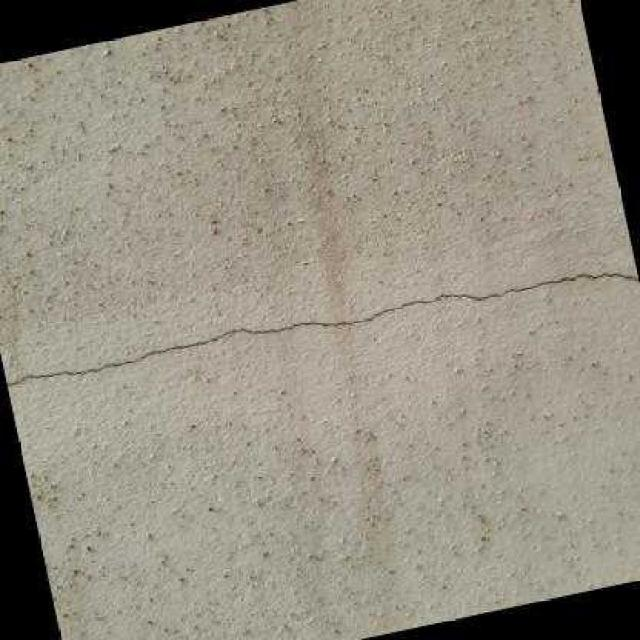D00: (6, 269, 639, 385)
